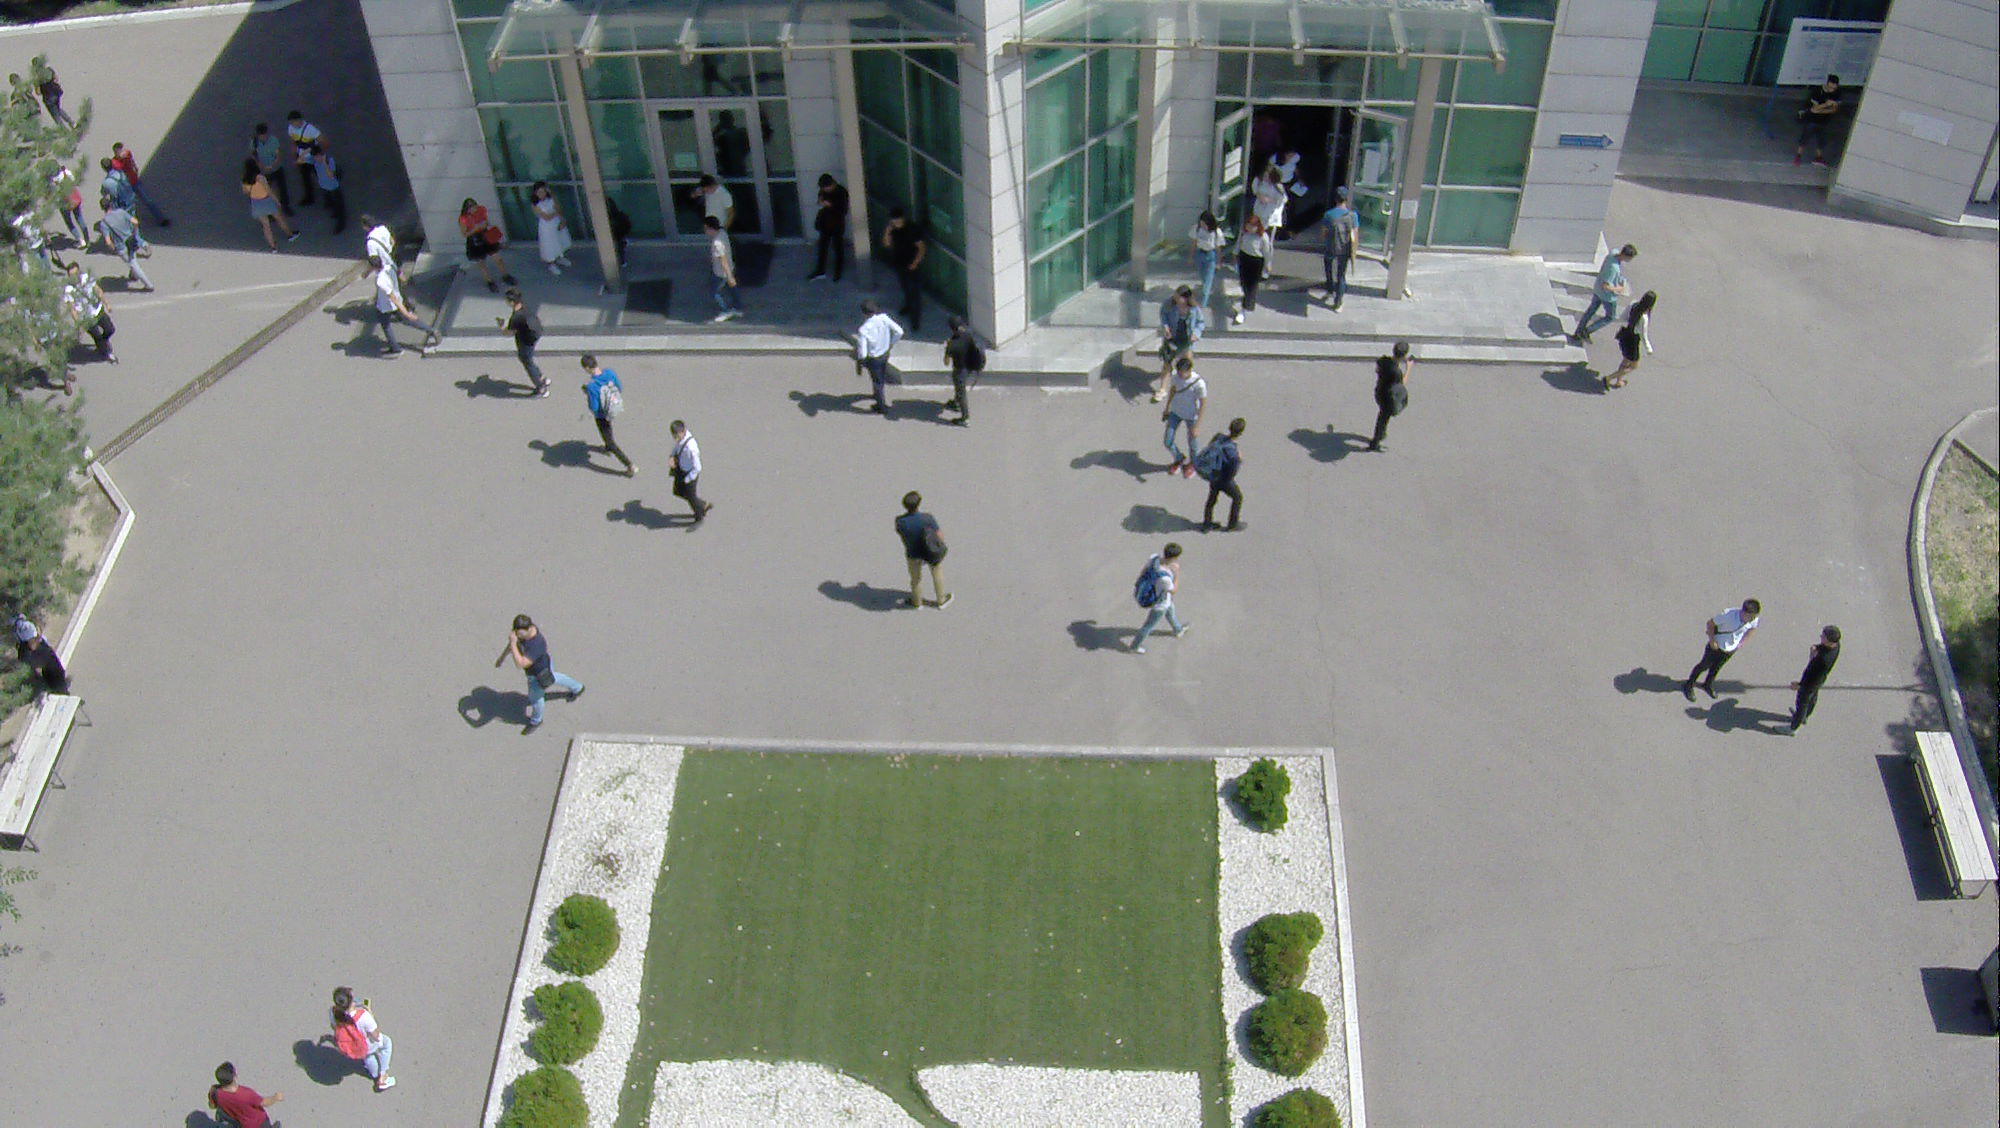person: (499, 606, 588, 739), (1766, 618, 1849, 746), (1678, 594, 1765, 715), (885, 491, 958, 625), (320, 983, 403, 1097), (361, 256, 442, 366), (579, 350, 644, 483), (1353, 338, 1423, 456), (487, 284, 557, 404), (1189, 414, 1253, 541), (836, 300, 901, 419), (939, 308, 994, 440), (1596, 290, 1660, 402), (1130, 543, 1191, 659), (1574, 244, 1641, 348), (805, 171, 860, 291), (881, 205, 931, 335), (1223, 212, 1272, 336), (66, 263, 123, 369), (1160, 359, 1208, 486), (235, 161, 298, 255), (694, 220, 746, 328), (668, 419, 717, 533), (456, 195, 511, 292), (94, 200, 150, 294), (1322, 187, 1361, 317), (1795, 68, 1844, 165), (527, 181, 576, 277), (1181, 211, 1226, 311), (1157, 277, 1208, 358), (286, 107, 320, 206), (314, 144, 349, 240), (682, 170, 734, 214), (257, 123, 289, 194), (362, 210, 395, 260)
